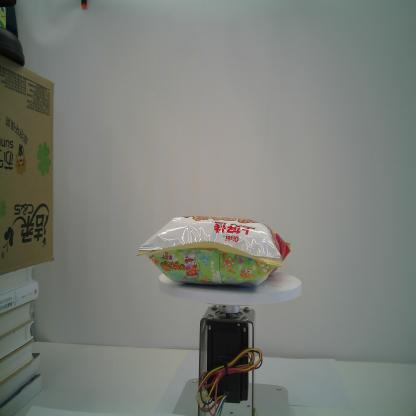Puffed Food: (136, 214, 291, 290)
